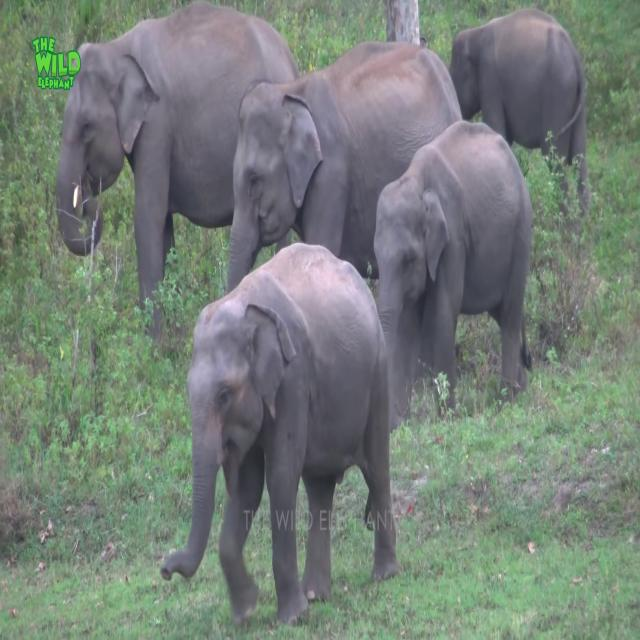Elephant: (160, 241, 400, 627), (54, 0, 299, 348), (224, 38, 463, 296), (373, 118, 533, 433), (449, 7, 589, 221)
